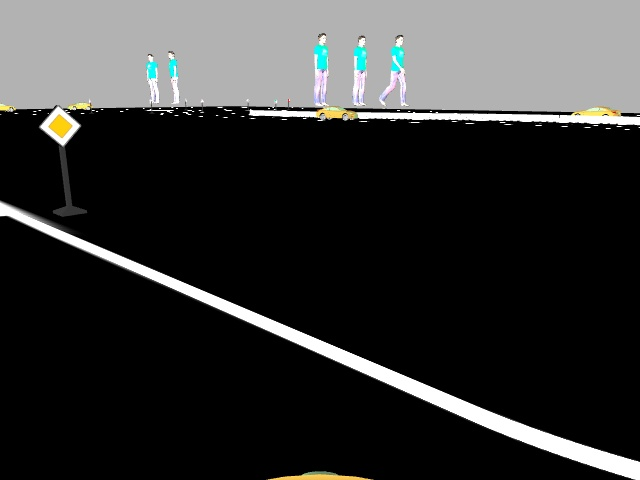Priority: (39, 104, 81, 143)
